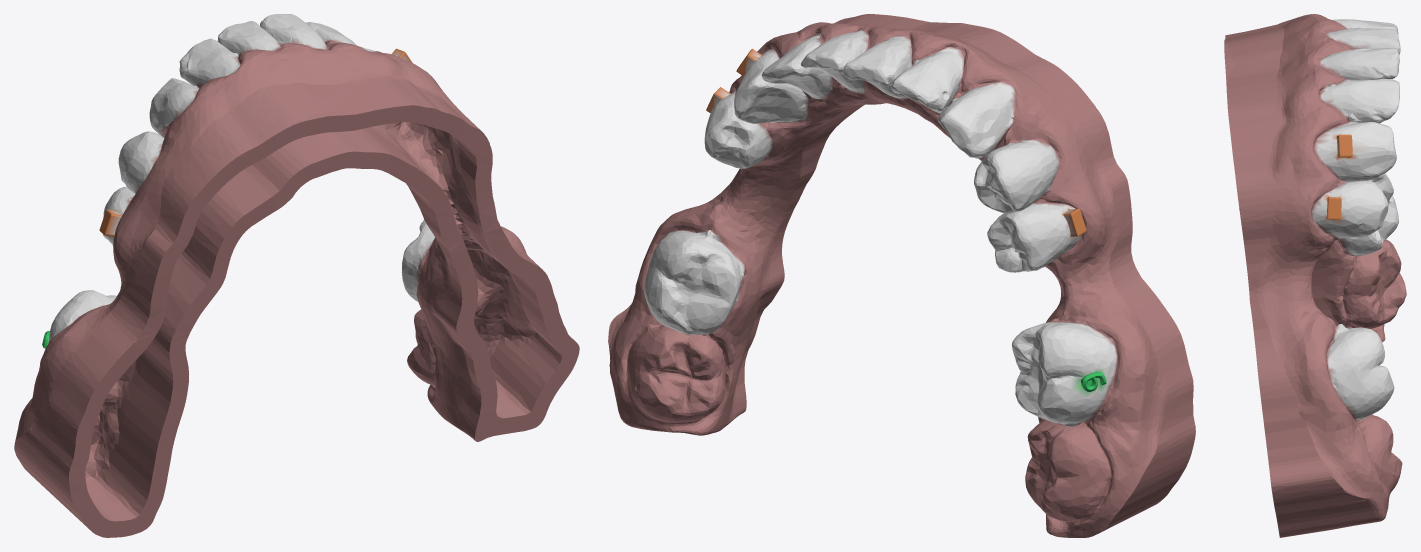
Rendered from lower-model-9.glb.
3 renders of one model, left to right at view 1: azimuth 30°, elevation 25°; view 2: azimuth 150°, elevation 25°; view 3: azimuth 270°, elevation 25°, orthographic. The views are drawn at different scales.
Visible parts, largest first — view 1: 9 (1); view 2: 9 (1); view 3: 9 (1).
Part boxes in pixels (x1=…): 9 (1): x1=14, y1=14, x2=579, y2=537; 9 (1): x1=608, y1=14, x2=1195, y2=537; 9 (1): x1=1224, y1=14, x2=1406, y2=537.
Size of the model in its own units: 64.23 by 50.46 by 20.71.
